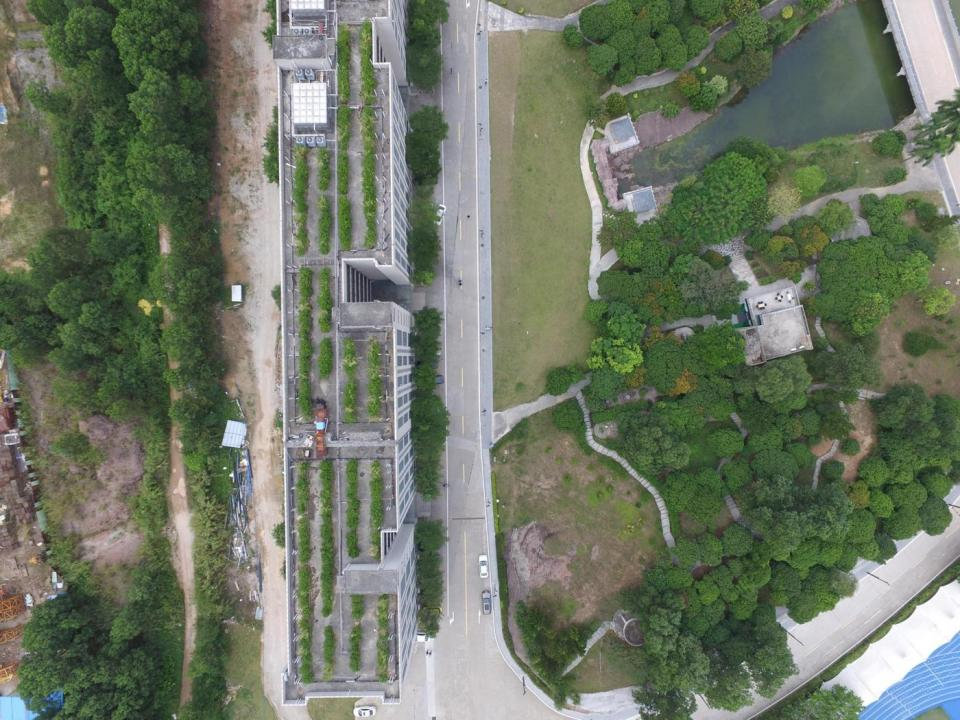car: (410, 630, 436, 644), (477, 552, 490, 578), (352, 704, 377, 717), (421, 606, 444, 619), (481, 590, 492, 616), (426, 373, 445, 388), (434, 203, 446, 226)
